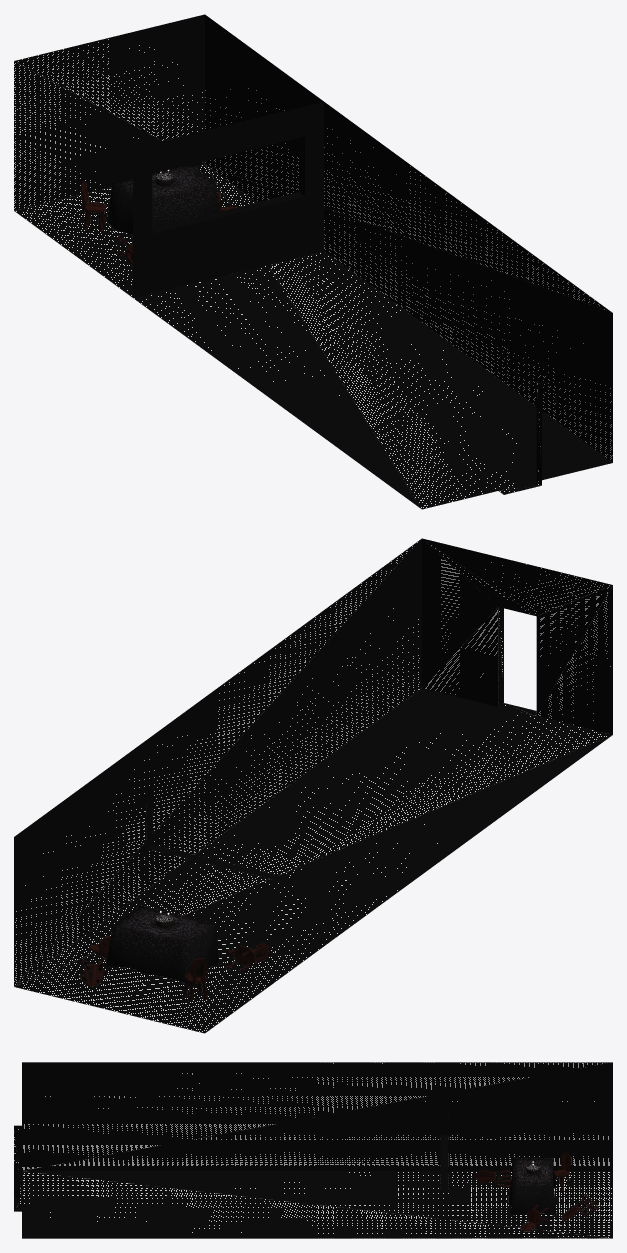
Rendered from spookers.glb.
The picture shows the model from 3 angles, top to bottom: view 1: azimuth 30°, elevation 25°; view 2: azimuth 150°, elevation 25°; view 3: azimuth 270°, elevation 25°; orthographic projection. The views are drawn at different scales.
Visible parts, largest first — view 1: room.002, divider, cake, chare.001; view 2: room.002, cake, chare.001, divider; view 3: room.002, cake, chare.001, divider.
Boxes of the visible parts, <box> form: room.002: <box>14,14,612,509</box>; divider: <box>133,102,323,297</box>; cake: <box>107,164,219,233</box>; chare.001: <box>80,181,237,265</box>; room.002: <box>14,538,612,1033</box>; cake: <box>106,905,218,986</box>; chare.001: <box>79,936,268,1001</box>; divider: <box>146,785,304,885</box>; room.002: <box>14,1062,612,1238</box>; cake: <box>508,1158,556,1215</box>; chare.001: <box>476,1152,598,1231</box>; divider: <box>440,1091,448,1188</box>.
Size of the model in its own units: 4 by 3.01 by 15.
Materials: 4 (3 with a texture image).
